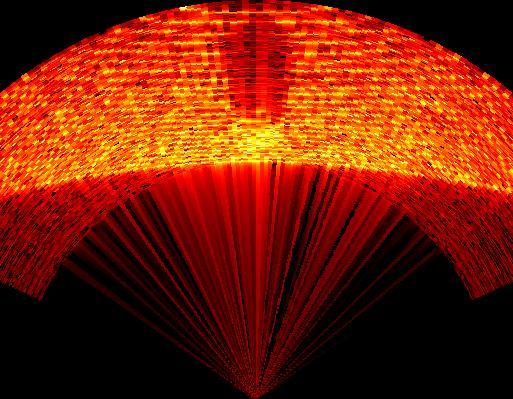box_crate: (218, 12, 293, 117)
